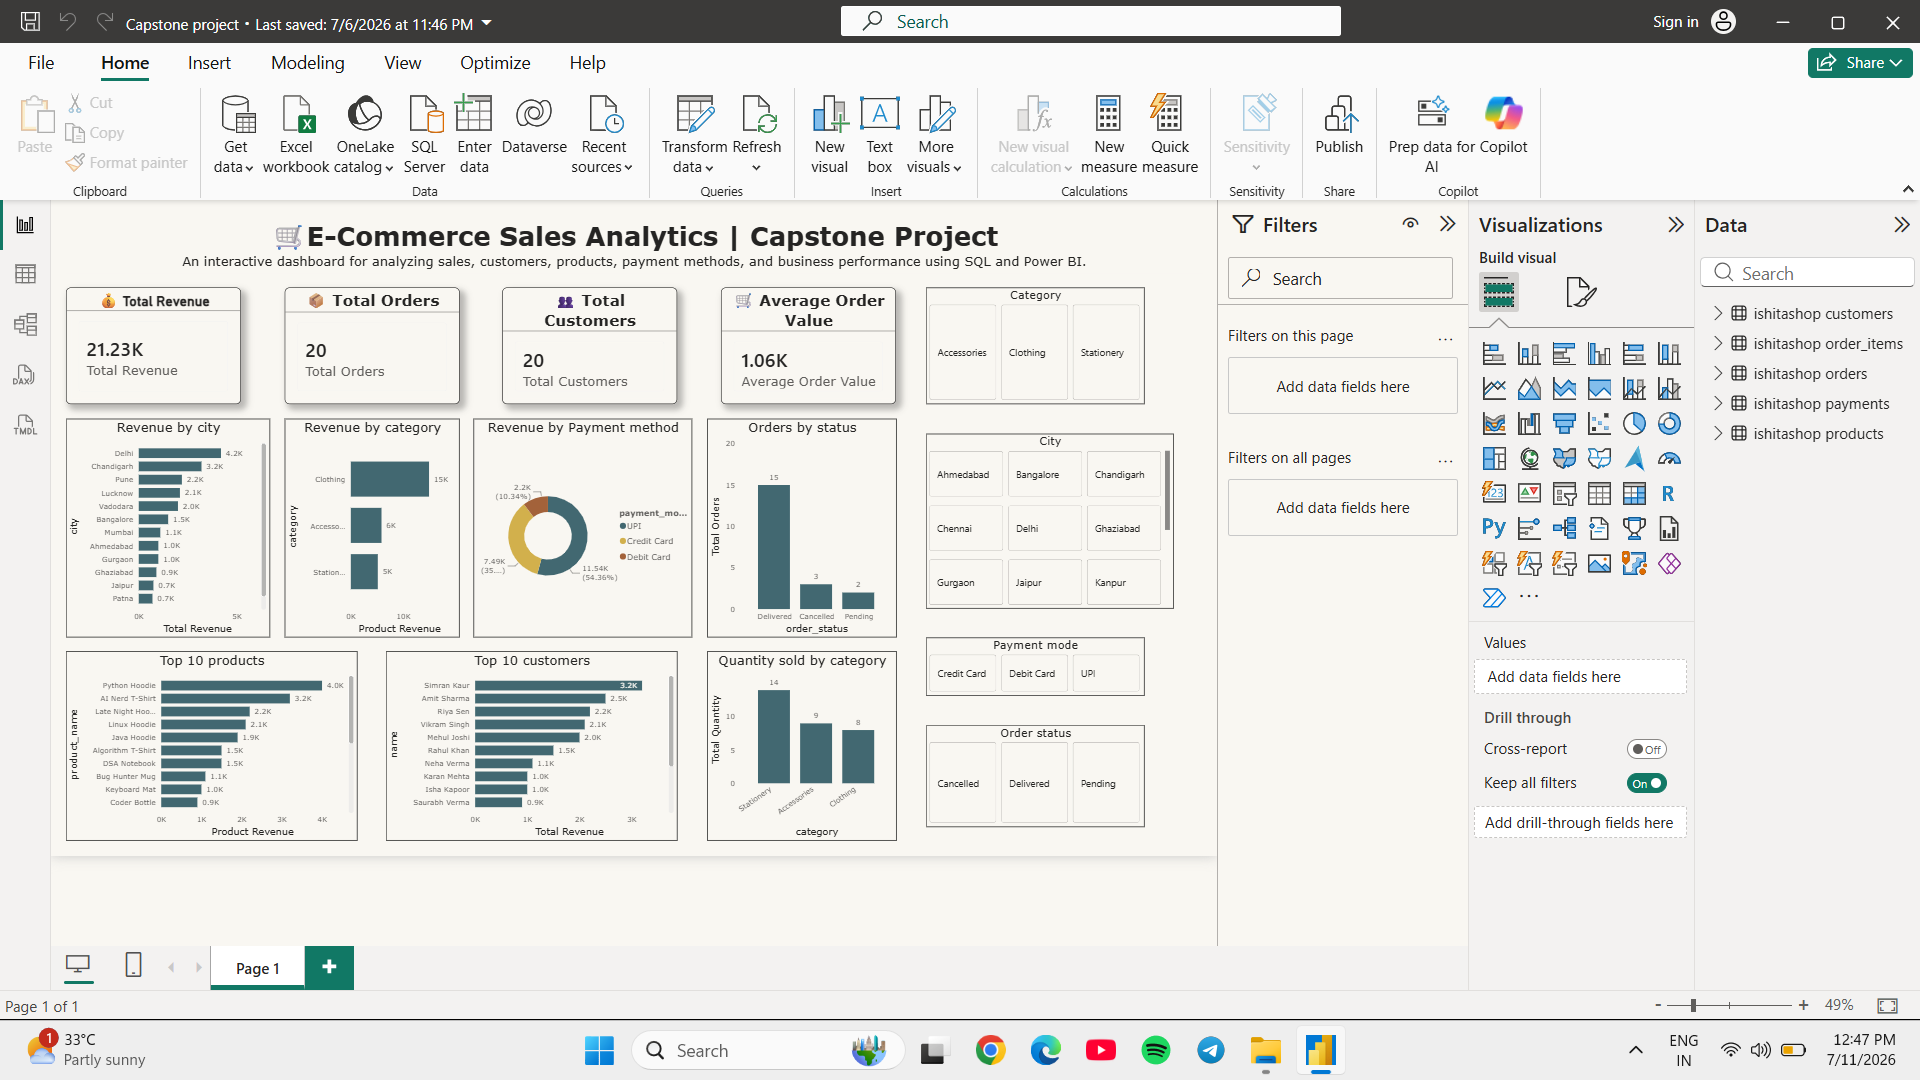

The page's visual inventory and layout, read from the dashboard file:
{"tool":"powerbi","page":{"name":"Page 1","canvas":[1920,1080],"ordinal":0},"visuals":[{"type":"cardVisual","title":"💰 Total Revenue","fields":{"Data":["ishitashop payments.Total Revenue"]},"box":[24,144,288,192],"z":0},{"type":"cardVisual","title":"📦 Total Orders","fields":{"Data":["ishitashop payments.Total Orders"]},"box":[384,144,288,192],"z":1000},{"type":"cardVisual","title":"👥 Total Customers","fields":{"Data":["ishitashop payments.Total Customers"]},"box":[744,144,288,192],"z":2000},{"type":"cardVisual","title":"🛒 Average Order Value","fields":{"Data":["ishitashop payments.Average Order Value"]},"box":[1104,144,288,192],"z":3000},{"type":"textbox","box":[24,380,288,192],"z":4000},{"type":"textbox","box":[24,24,1872,96],"z":5000},{"type":"clusteredBarChart","title":"Revenue by city","fields":{"Category":["ishitashop customers.city"],"Y":["ishitashop payments.Total Revenue"]},"box":[24,360,336,360],"z":6000},{"type":"clusteredBarChart","title":"Revenue by category","fields":{"Category":["ishitashop products.category"],"Y":["ishitashop payments.Product Revenue"]},"box":[384,360,288,360],"z":7000},{"type":"donutChart","title":"Revenue by Payment method ","fields":{"Category":["ishitashop payments.payment_mode"],"Y":["ishitashop payments.Total Revenue"]},"box":[696,360,360,360],"z":8000},{"type":"clusteredColumnChart","title":"Orders by status","fields":{"Category":["ishitashop orders.order_status"],"Y":["ishitashop payments.Total Orders"]},"box":[1080,360,312,360],"z":9000},{"type":"clusteredBarChart","title":"Top 10 products","fields":{"Category":["ishitashop products.product_name"],"Y":["ishitashop payments.Product Revenue"]},"box":[24,744,480,312],"z":10000},{"type":"clusteredBarChart","title":"Top 10 customers","fields":{"Category":["ishitashop customers.name"],"Y":["ishitashop payments.Total Revenue"]},"box":[552,744,480,312],"z":11000},{"type":"clusteredColumnChart","title":"Quantity sold by category","fields":{"Category":["ishitashop products.category"],"Y":["ishitashop payments.Total Quantity"]},"box":[1080,744,312,312],"z":12000},{"type":"advancedSlicerVisual","title":"Category","fields":{"Values":["ishitashop products.category"]},"box":[1440,144,360,192],"z":13000},{"type":"advancedSlicerVisual","title":"City","fields":{"Values":["ishitashop customers.city"]},"box":[1440,384,408,288],"z":14000},{"type":"advancedSlicerVisual","title":"Payment mode","fields":{"Values":["ishitashop payments.payment_mode"]},"box":[1440,720,360,96],"z":15000},{"type":"advancedSlicerVisual","title":"Order status","fields":{"Values":["ishitashop orders.order_status"]},"box":[1440,864,360,168],"z":16000}]}

Visuals, with their boxes on the page's 1920x1080 design canvas (x1, y1, x2, y2). These are canvas units, not pixel positions in the 1920x1080 screenshot, which may show the page scaled, cropped or inside an application window:
"💰 Total Revenue" cardVisual: region(24, 144, 312, 336)
"📦 Total Orders" cardVisual: region(384, 144, 672, 336)
"👥 Total Customers" cardVisual: region(744, 144, 1032, 336)
"🛒 Average Order Value" cardVisual: region(1104, 144, 1392, 336)
textbox: region(24, 380, 312, 572)
textbox: region(24, 24, 1896, 120)
"Revenue by city" clusteredBarChart: region(24, 360, 360, 720)
"Revenue by category" clusteredBarChart: region(384, 360, 672, 720)
"Revenue by Payment method " donutChart: region(696, 360, 1056, 720)
"Orders by status" clusteredColumnChart: region(1080, 360, 1392, 720)
"Top 10 products" clusteredBarChart: region(24, 744, 504, 1056)
"Top 10 customers" clusteredBarChart: region(552, 744, 1032, 1056)
"Quantity sold by category" clusteredColumnChart: region(1080, 744, 1392, 1056)
"Category" advancedSlicerVisual: region(1440, 144, 1800, 336)
"City" advancedSlicerVisual: region(1440, 384, 1848, 672)
"Payment mode" advancedSlicerVisual: region(1440, 720, 1800, 816)
"Order status" advancedSlicerVisual: region(1440, 864, 1800, 1032)
